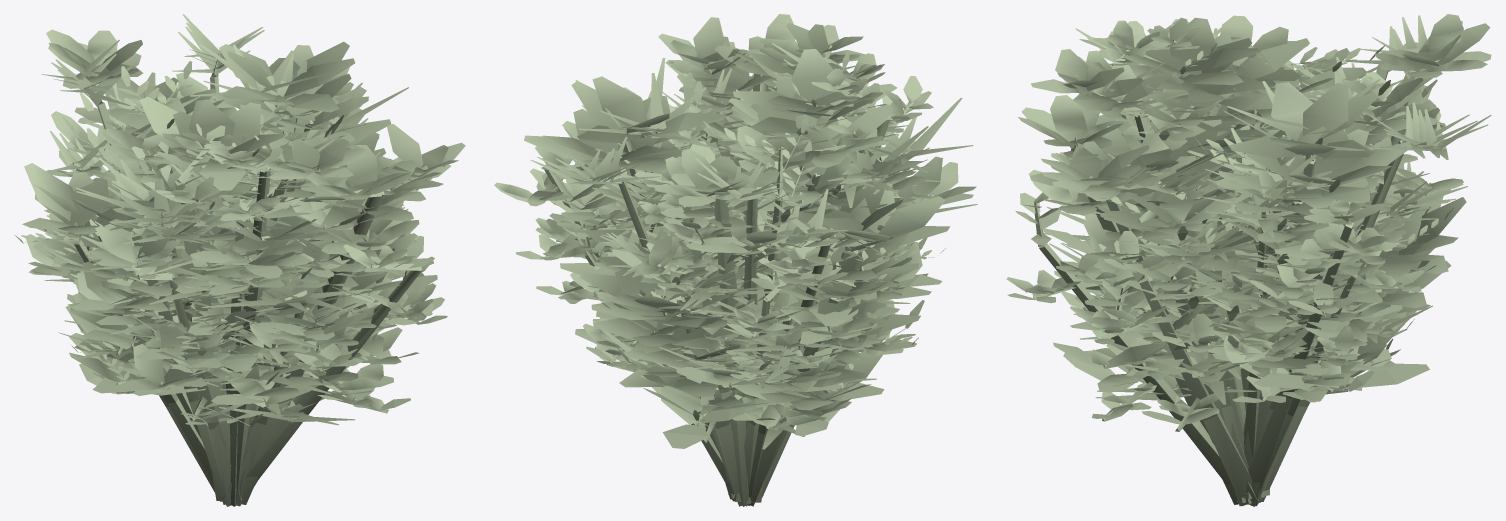
The model's file is shrub_spreading.glb.
The picture shows the model from 3 angles, left to right: view 1: azimuth 30°, elevation 25°; view 2: azimuth 150°, elevation 25°; view 3: azimuth 270°, elevation 25°; orthographic projection. The views are drawn at different scales.
Parts seen in each view (by area): view 1: v6_foliage, v1_foliage, v2_foliage, v8_foliage, v0_foliage, v7_foliage, v0_bark, v4_foliage, v5_foliage, v6_bark, v4_bark, v1_bark (+5 smaller); view 2: v2_foliage, v1_foliage, v6_foliage, v0_foliage, v8_foliage, v7_foliage, v5_foliage, v4_foliage, v6_bark, v0_bark, v7_bark, v1_bark (+6 smaller); view 3: v2_foliage, v1_foliage, v6_foliage, v5_foliage, v7_foliage, v0_foliage, v8_foliage, v5_bark, v4_foliage, v0_bark, v7_bark, v6_bark (+6 smaller).
Boxes of the visible parts, x1=… form: v6_foliage: x1=46, y1=29, x2=437, y2=407; v1_foliage: x1=26, y1=72, x2=465, y2=395; v2_foliage: x1=22, y1=41, x2=391, y2=395; v8_foliage: x1=39, y1=44, x2=408, y2=425; v0_foliage: x1=107, y1=125, x2=447, y2=412; v7_foliage: x1=41, y1=14, x2=382, y2=382; v0_bark: x1=126, y1=138, x2=421, y2=483; v4_foliage: x1=62, y1=61, x2=426, y2=429; v5_foliage: x1=44, y1=82, x2=444, y2=372; v6_bark: x1=93, y1=68, x2=384, y2=504; v4_bark: x1=104, y1=123, x2=360, y2=506; v1_bark: x1=61, y1=102, x2=428, y2=504; v2_foliage: x1=524, y1=49, x2=950, y2=448; v1_foliage: x1=530, y1=17, x2=976, y2=436; v6_foliage: x1=570, y1=14, x2=893, y2=387; v0_foliage: x1=516, y1=68, x2=933, y2=428; v8_foliage: x1=570, y1=58, x2=977, y2=449; v7_foliage: x1=530, y1=43, x2=939, y2=382; v5_foliage: x1=494, y1=53, x2=885, y2=396; v4_foliage: x1=564, y1=72, x2=927, y2=383; v6_bark: x1=632, y1=73, x2=845, y2=506; v0_bark: x1=543, y1=85, x2=913, y2=488; v7_bark: x1=584, y1=113, x2=849, y2=506; v1_bark: x1=572, y1=55, x2=933, y2=506; v2_foliage: x1=1098, y1=17, x2=1466, y2=389; v1_foliage: x1=1031, y1=49, x2=1432, y2=401; v6_foliage: x1=1018, y1=14, x2=1491, y2=392; v5_foliage: x1=1080, y1=20, x2=1463, y2=424; v7_foliage: x1=1065, y1=15, x2=1491, y2=377; v0_foliage: x1=1006, y1=17, x2=1424, y2=421; v8_foliage: x1=1043, y1=27, x2=1447, y2=411; v5_bark: x1=1102, y1=44, x2=1439, y2=506; v4_foliage: x1=1073, y1=45, x2=1437, y2=362; v0_bark: x1=1033, y1=36, x2=1403, y2=485; v7_bark: x1=1127, y1=67, x2=1440, y2=504; v6_bark: x1=1067, y1=59, x2=1440, y2=505.
Size of the model in its own units: 1.02 by 1 by 0.9986.
